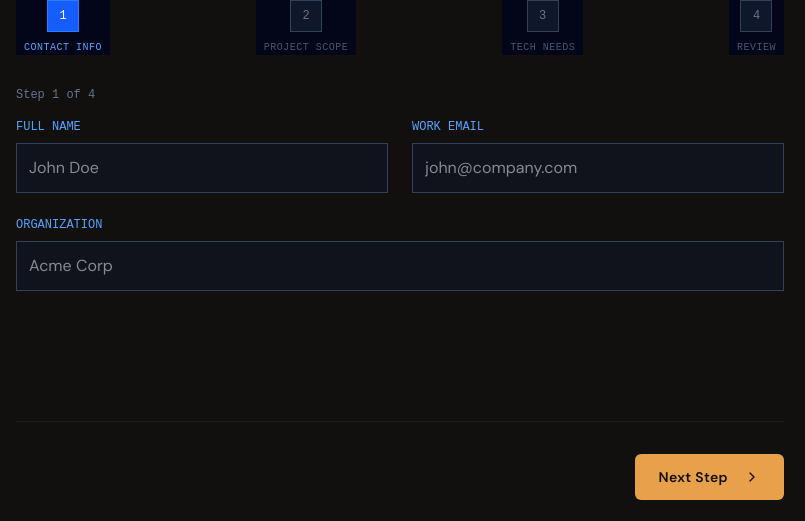
Test: MultiStepForm › does not advance when required name and email are empty
What coordinates should you click on to do the following:
click the button "Next Step"
I would click on:
 (709, 477)
Its box is [634, 454, 784, 500].
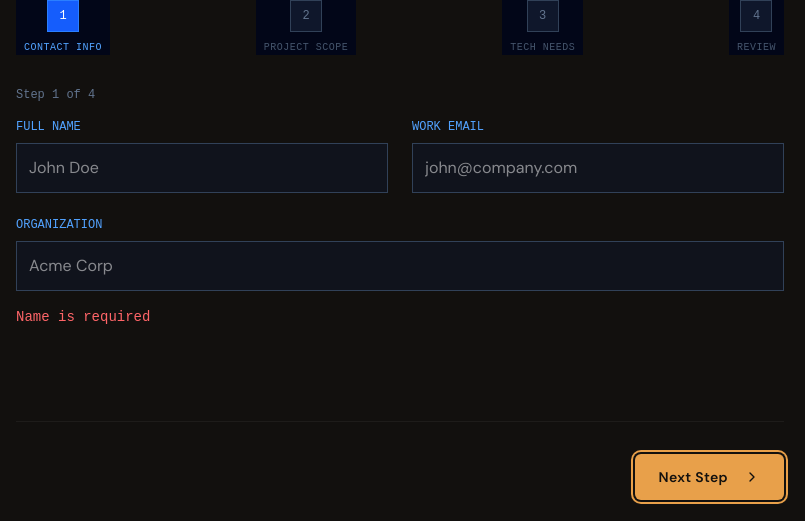
expect the field with placeholder "John Doe" is shown: met, box [16, 143, 388, 193]
expect the message "Name is required" is shown: met, box [16, 309, 150, 325]
